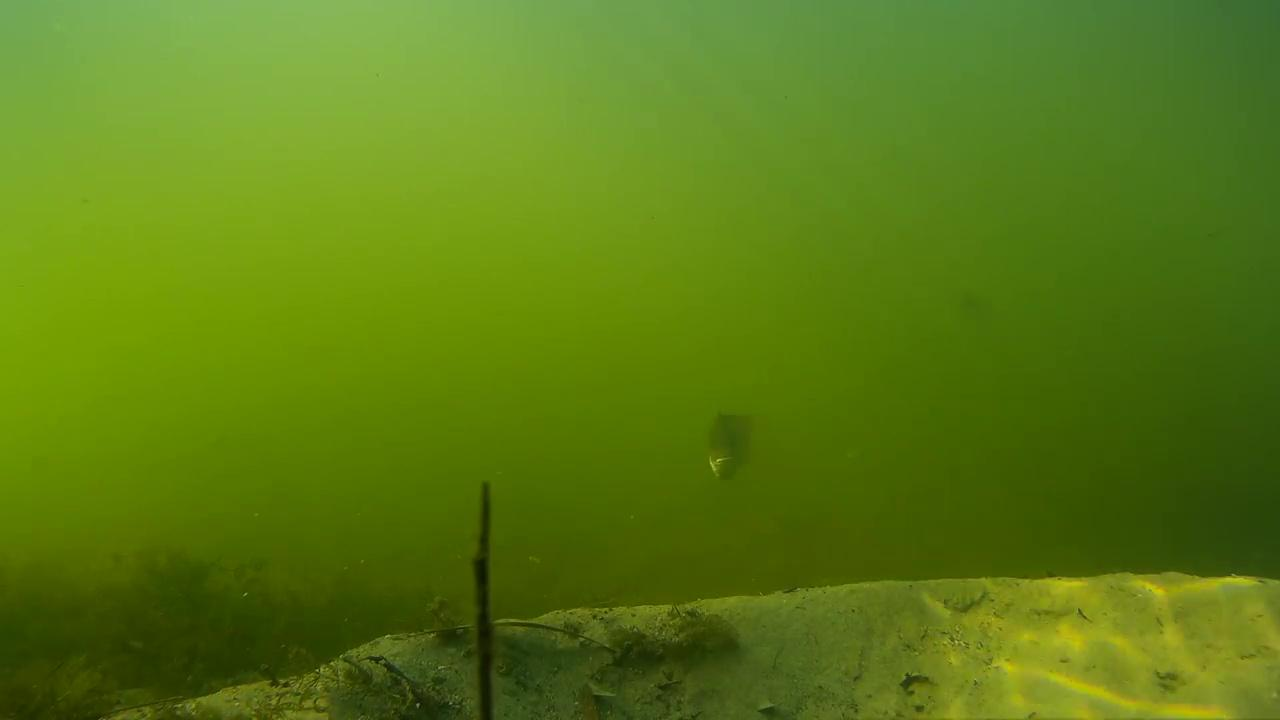Tilapia: (695, 396, 768, 490)
